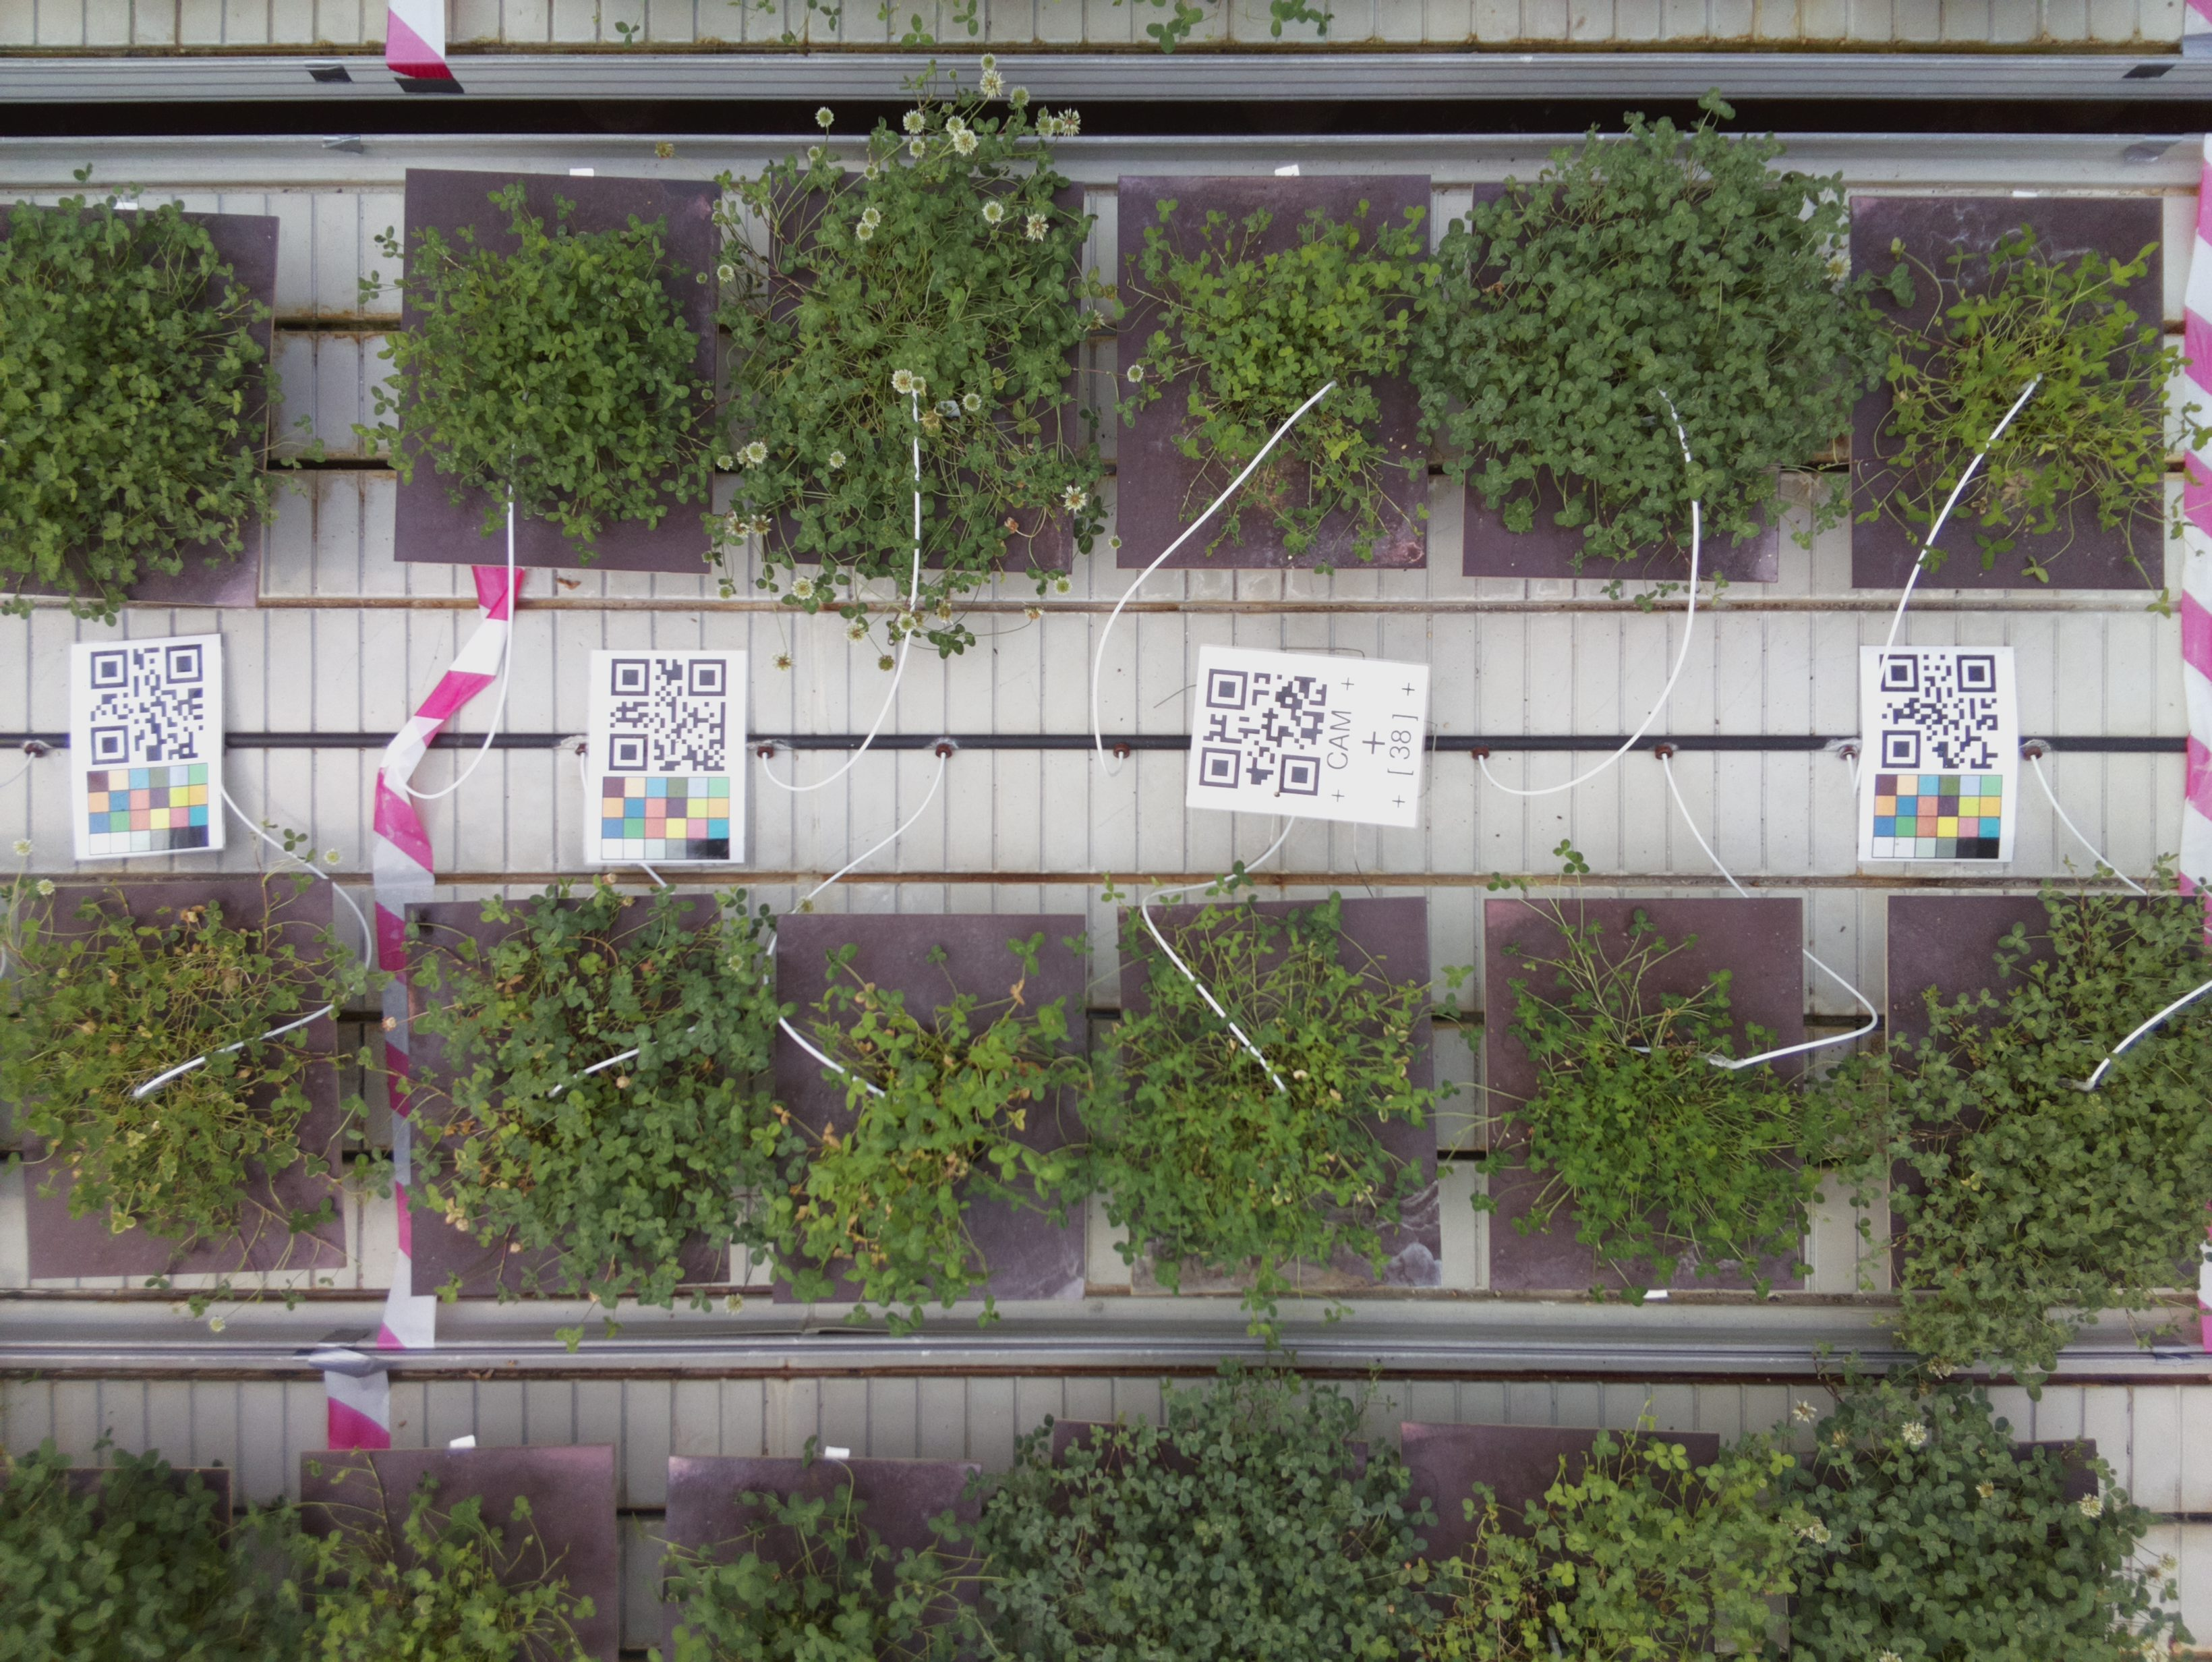POT: (396, 169, 721, 576), (1842, 192, 2170, 594), (1891, 890, 2212, 1301), (1482, 901, 1816, 1295), (1116, 899, 1447, 1290), (1465, 176, 1781, 583), (402, 901, 732, 1290), (766, 166, 1081, 573), (1114, 171, 1433, 571), (773, 911, 1093, 1308)
QRCODE: (1185, 644, 1423, 831)
QRCOLOR: (587, 648, 747, 866), (1858, 646, 2018, 864), (72, 641, 223, 855)
